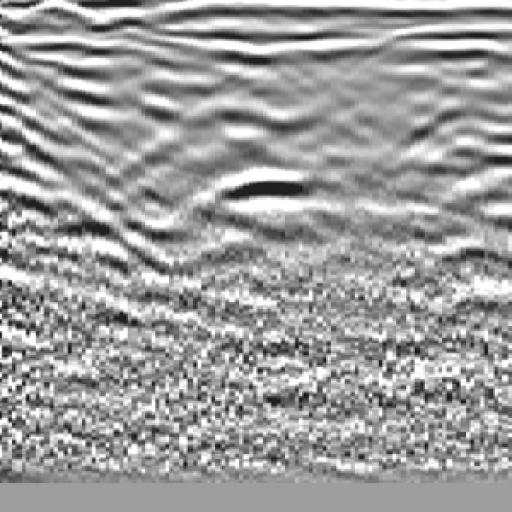metalic: (192, 123, 361, 271)
nonmetalic: (1, 36, 108, 246)
